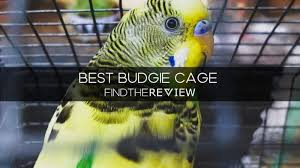budgie: (31, 1, 213, 168)
